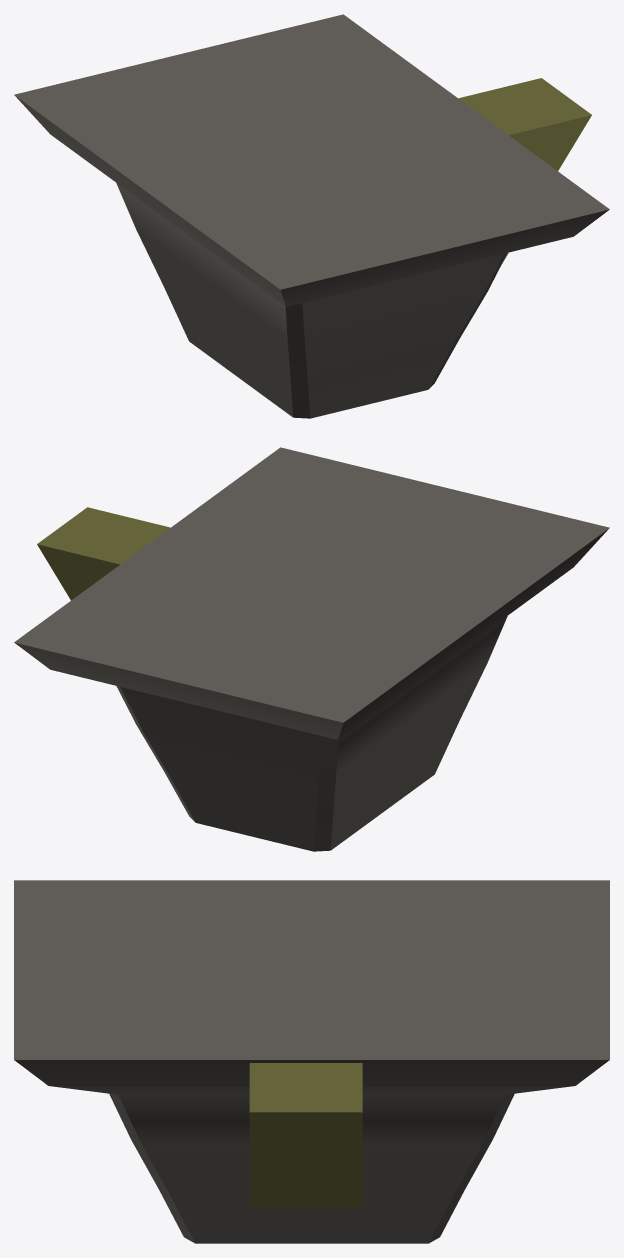
The model's file is light.fbx.
3 views of the same model, one above another, from view 1: azimuth 30°, elevation 25°; view 2: azimuth 150°, elevation 25°; view 3: azimuth 270°, elevation 25° (orthographic). The views are drawn at different scales.
Visible parts, largest first — view 1: Object032; view 2: Object032; view 3: Object032.
Part boxes in pixels (bbox=[...]): Object032: bbox=[14, 14, 609, 418]; Object032: bbox=[14, 447, 609, 851]; Object032: bbox=[14, 880, 609, 1243].
Bounding box in the file's own units: 34 × 16.38 × 37.64.
